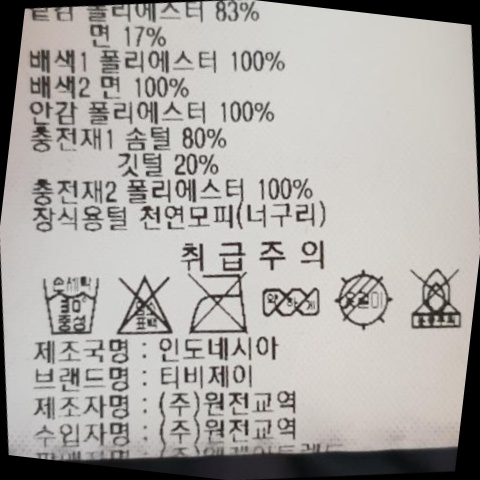DN_iron: (177, 264, 258, 345)
hand_wash: (35, 264, 114, 346)
line_dry_in_shade: (330, 262, 404, 338)
non_chlorine_bleach: (106, 258, 188, 345)
wring: (257, 273, 332, 328)
